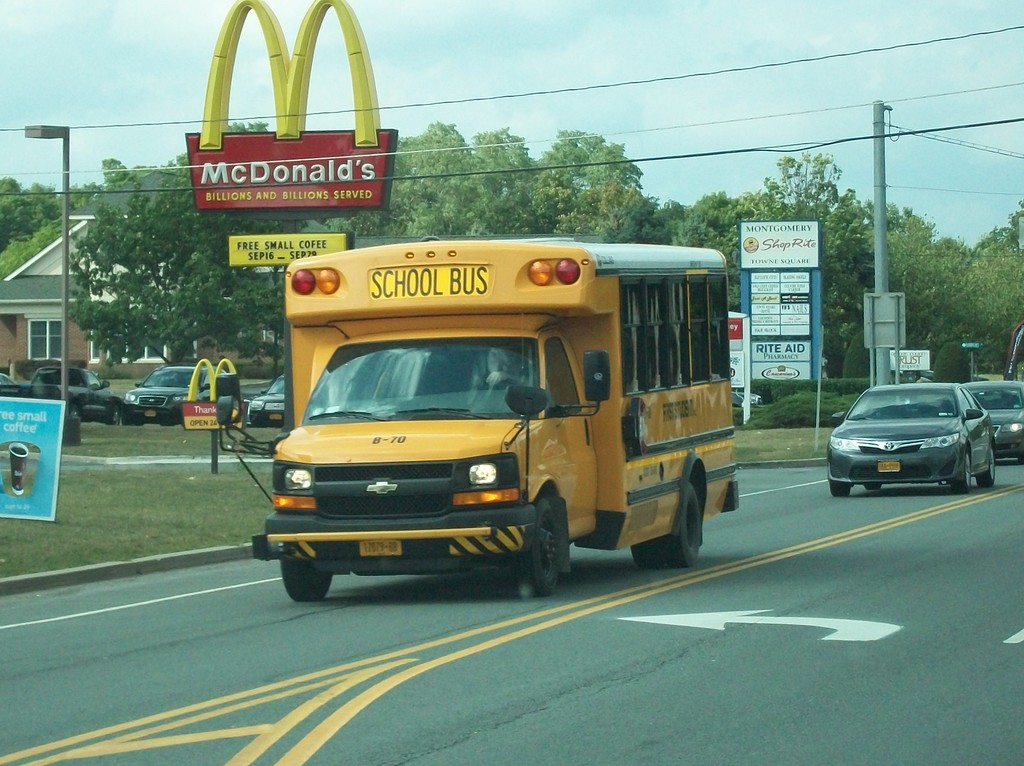Car: (819, 378, 997, 505), (126, 363, 238, 421), (960, 377, 1023, 455), (242, 367, 287, 429)
